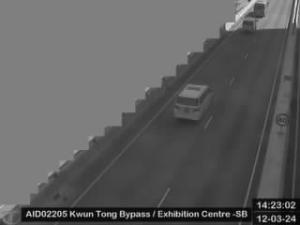bus: (254, 1, 270, 16)
vehicle: (174, 82, 216, 124), (243, 18, 255, 31)
